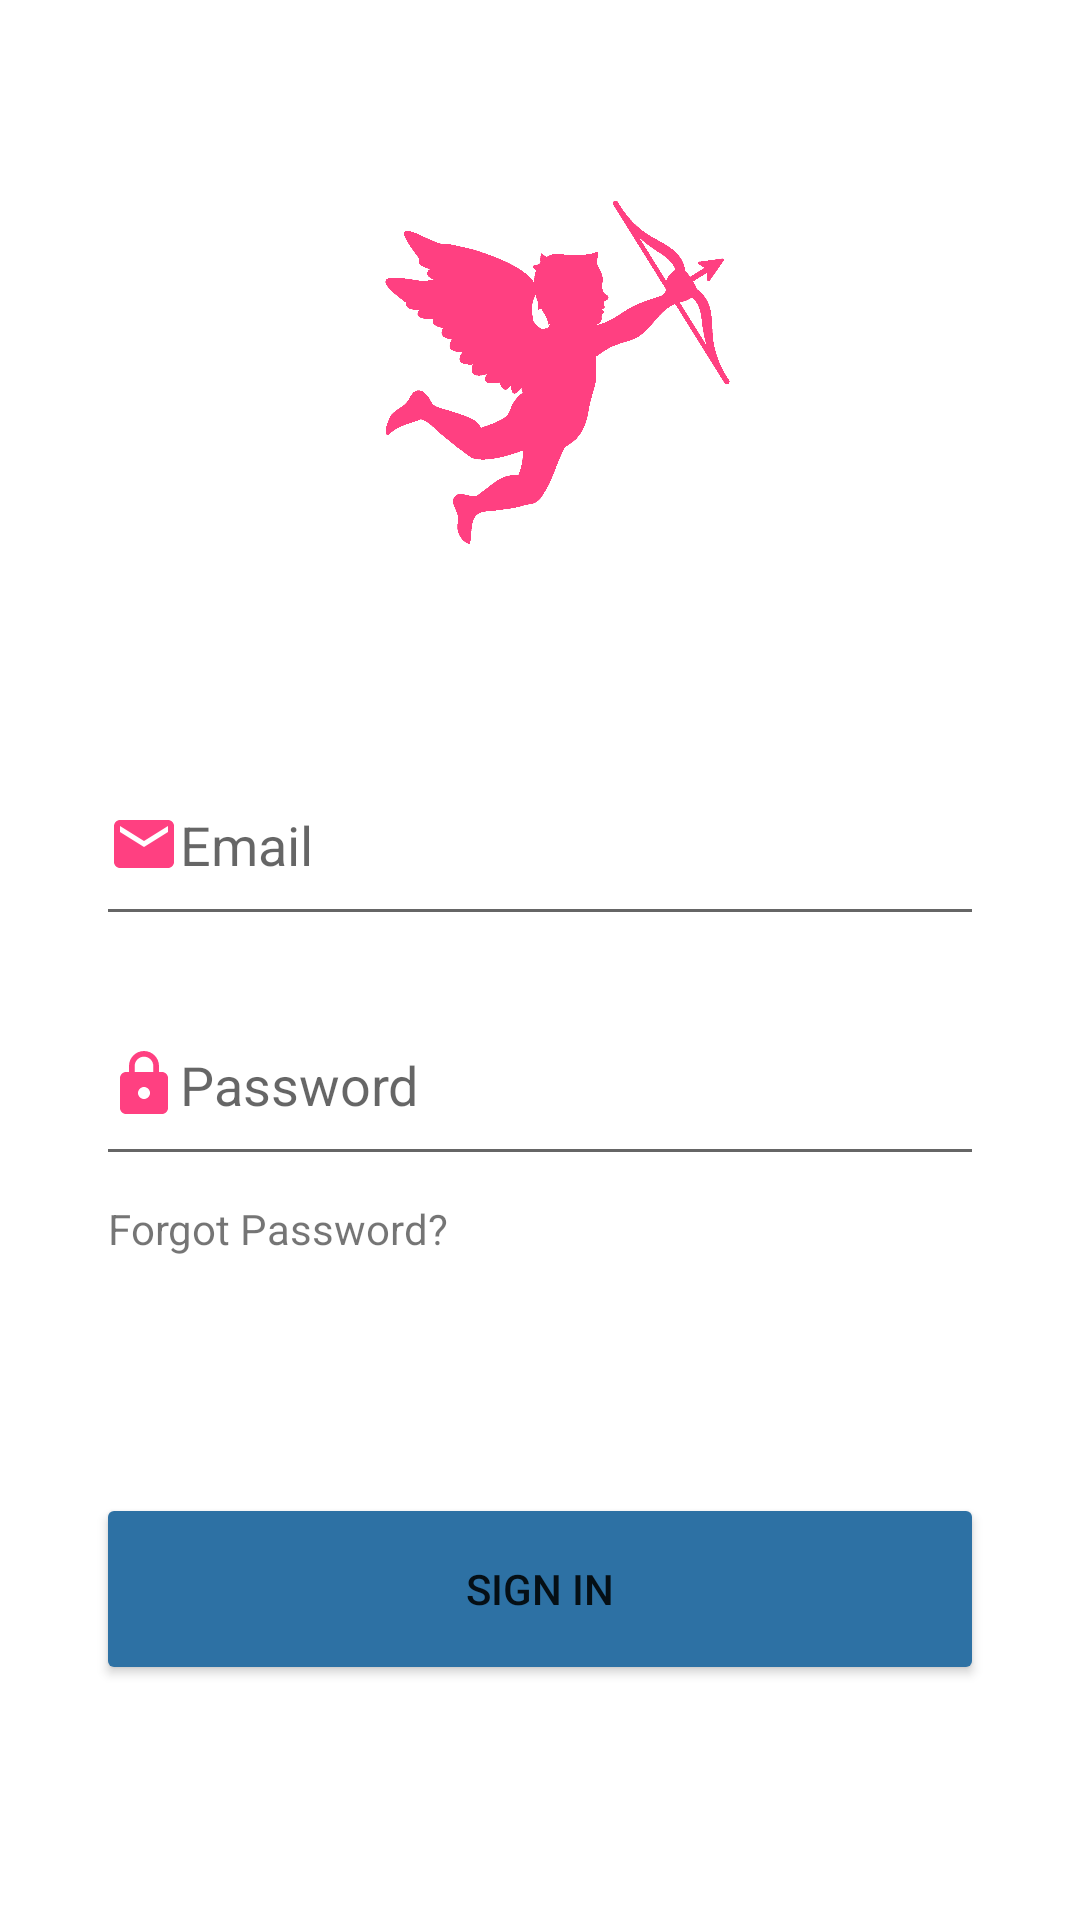

Where icons sit on this 1080w x 1920h app screen, as [x1=x1, y1=y1, x2=x2, y2=y2]:
cupid: [x1=385, y1=201, x2=730, y2=544]
